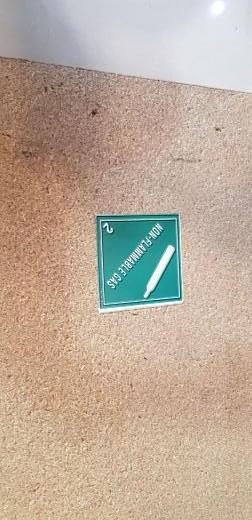non-flammable-gas: (98, 215, 182, 307)
